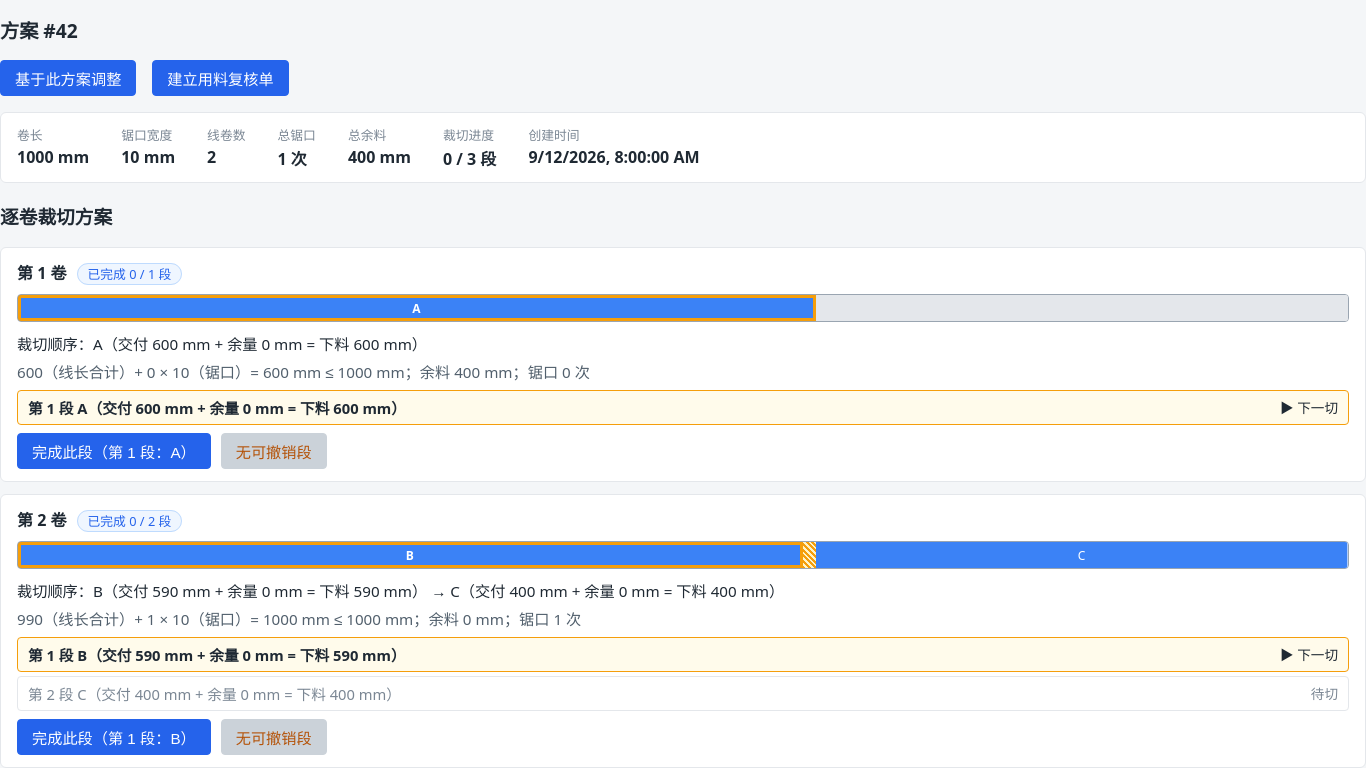
Test: PlanDetailPage progress flow › shows the conflict and refetches on a 409, without touching other rolls
Check: the text with test id "overall-progress" reads "0 / 3 段", box [443,146,496,170]
What coordinates should you click on to do the following:
click the button with test id "complete-roll-2"
I would click on:
 (114, 737)
Its box is [17,719,211,755].
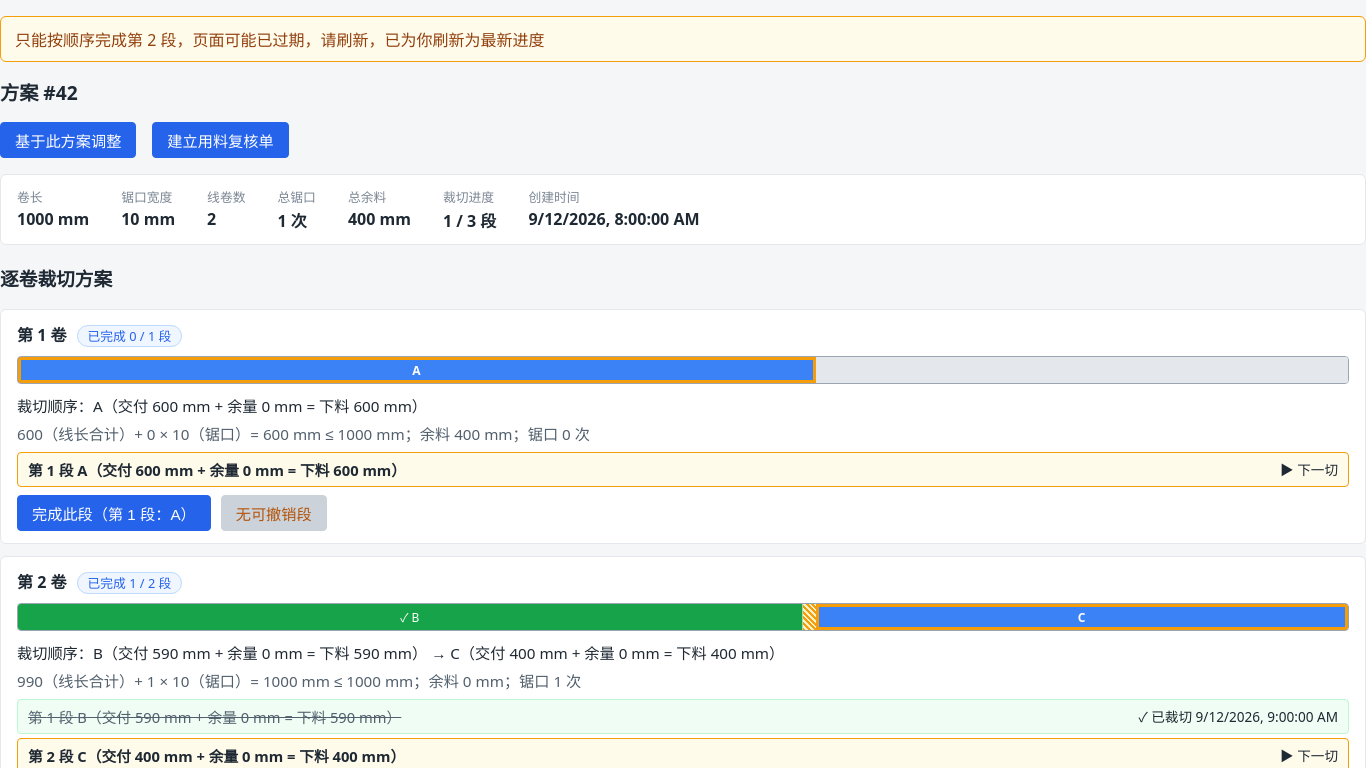
Check: the message "只能按顺序完成第 2 段，页面可能已过期，请刷新，已为你刷新为最新进度" is shown, box [0,16,1365,62]
Check: the text with test id "overall-progress" reads "1 / 3 段", box [443,208,496,232]
Check: the text with test id "roll-progress-2" reads "已完成 1 / 2 段", box [76,572,182,594]
